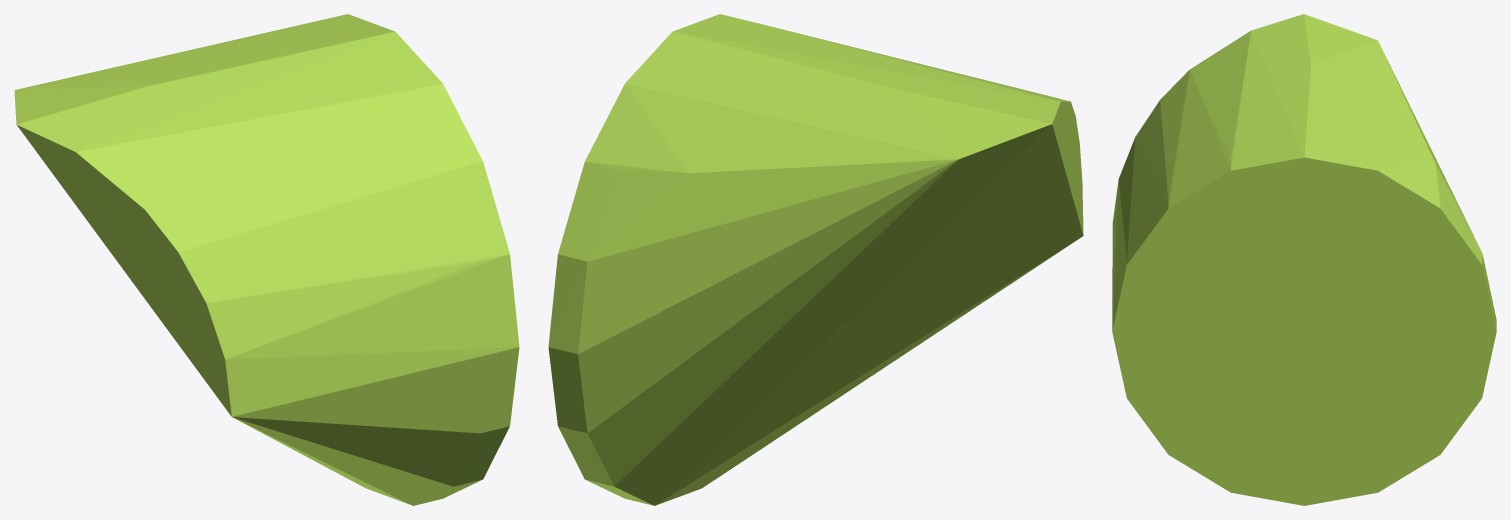
The model's file is industrial_06397_link_2_respondable_respondable_respondable_respondable_respondable_respondable_coll_4.dae.
3 views of the same model, side by side, from view 1: azimuth 30°, elevation 25°; view 2: azimuth 150°, elevation 25°; view 3: azimuth 270°, elevation 25° (orthographic). The views are drawn at different scales.
Parts seen in each view (by area): view 1: node; view 2: node; view 3: node.
Part boxes in pixels (box(x1,y1,x2,y2)): node: box(14, 14, 519, 505); node: box(548, 14, 1083, 505); node: box(1112, 14, 1496, 505).
Bounding box in the file's own units: 0.1025 × 0.1164 × 0.116.
